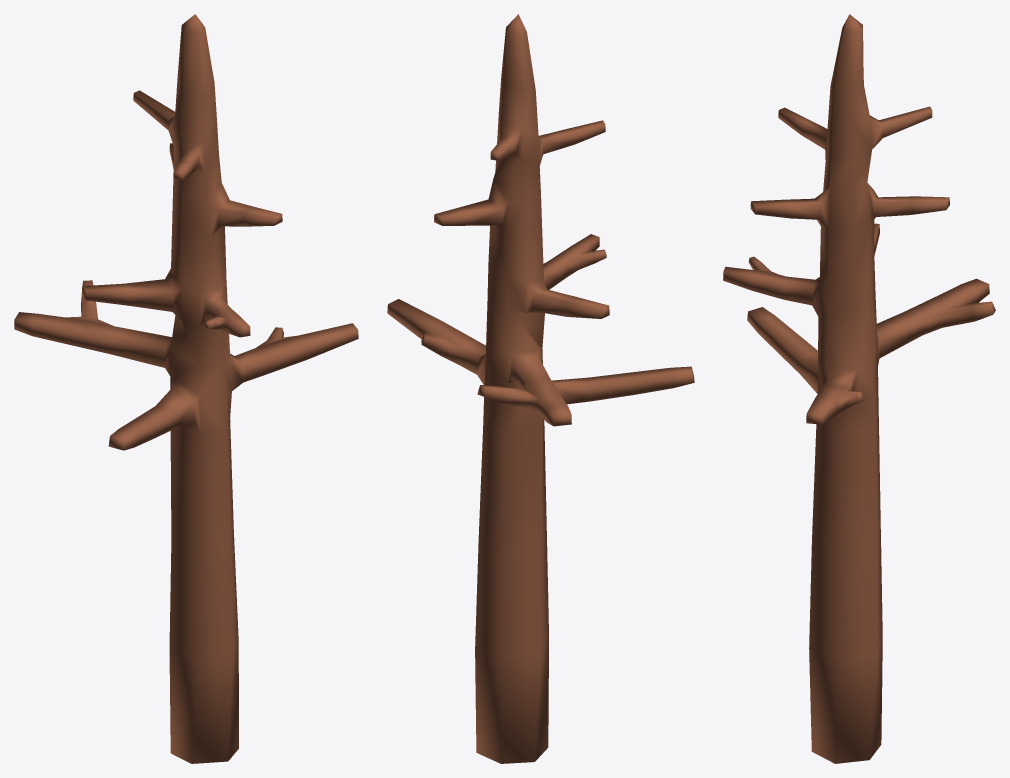
Rendered from DeadTrunk_A_03_LOD2.gltf.
The picture shows the model from 3 angles, left to right: view 1: azimuth 30°, elevation 25°; view 2: azimuth 150°, elevation 25°; view 3: azimuth 270°, elevation 25°; orthographic projection.
Visible parts, largest first — view 1: DeadTrunk_A_03_LOD2_Cylinder.604; view 2: DeadTrunk_A_03_LOD2_Cylinder.604; view 3: DeadTrunk_A_03_LOD2_Cylinder.604.
Boxes of the visible parts, box(x1,y1,x2,y2) form: DeadTrunk_A_03_LOD2_Cylinder.604: box(14, 14, 358, 763); DeadTrunk_A_03_LOD2_Cylinder.604: box(387, 14, 694, 763); DeadTrunk_A_03_LOD2_Cylinder.604: box(723, 14, 995, 763).
Size of the model in its own units: 4.47 by 11.53 by 3.87.
Materials: 1 (1 with a texture image).
